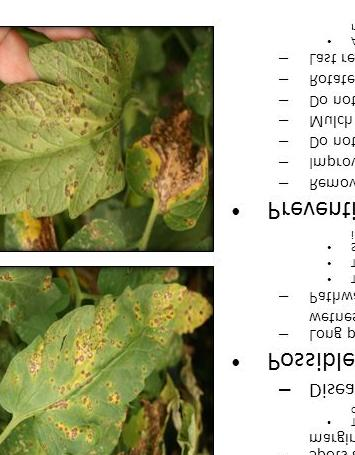Tomato Septoria leaf spot: (0, 281, 211, 455), (0, 38, 131, 220), (115, 99, 209, 241)
